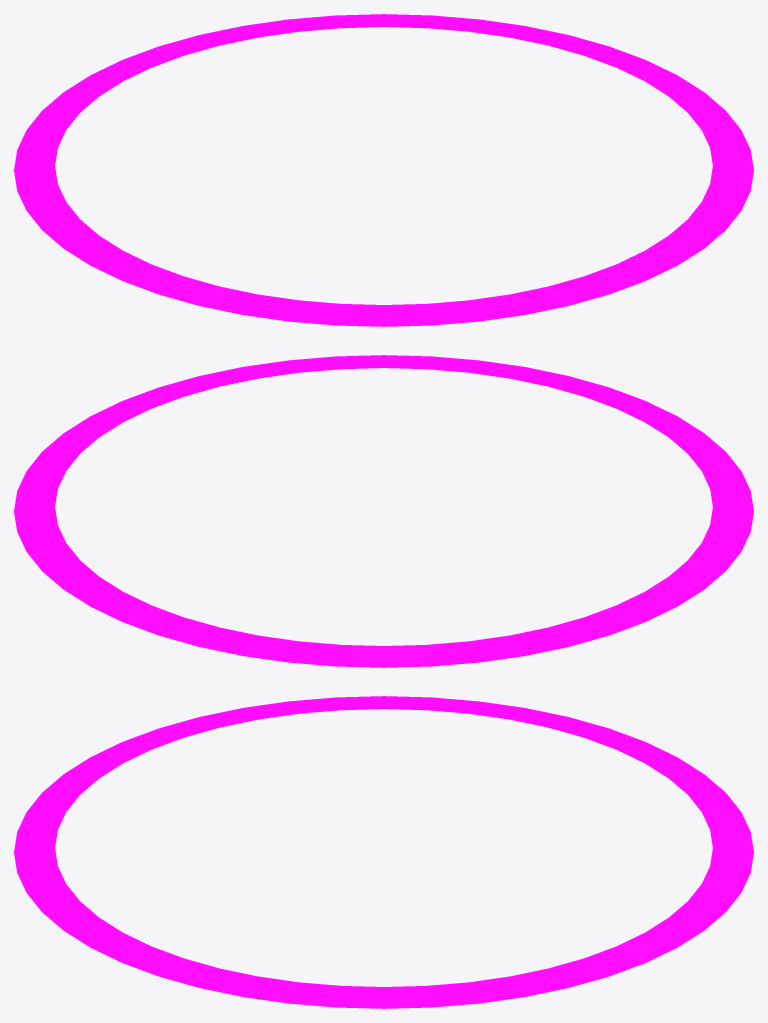
The model's file is rotate.fbx.
The picture shows the model from 3 angles, top to bottom: view 1: azimuth 30°, elevation 25°; view 2: azimuth 150°, elevation 25°; view 3: azimuth 270°, elevation 25°; orthographic projection.
Parts seen in each view (by area): view 1: Torus; view 2: Torus; view 3: Torus.
Part boxes in pixels (<box>): Torus: <box>14,14,753,326</box>; Torus: <box>14,355,753,667</box>; Torus: <box>14,696,753,1008</box>.
Size of the model in its own units: 1012 by 6.7 by 1012.
